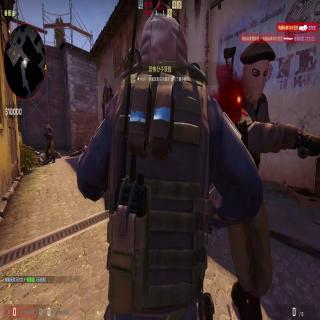T-Body: (42, 120, 56, 162)
T-Head: (243, 45, 275, 96), (44, 120, 50, 128)
